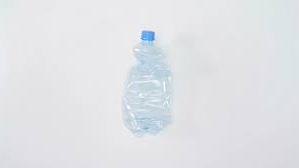plastic water bottle: (122, 25, 173, 138)
